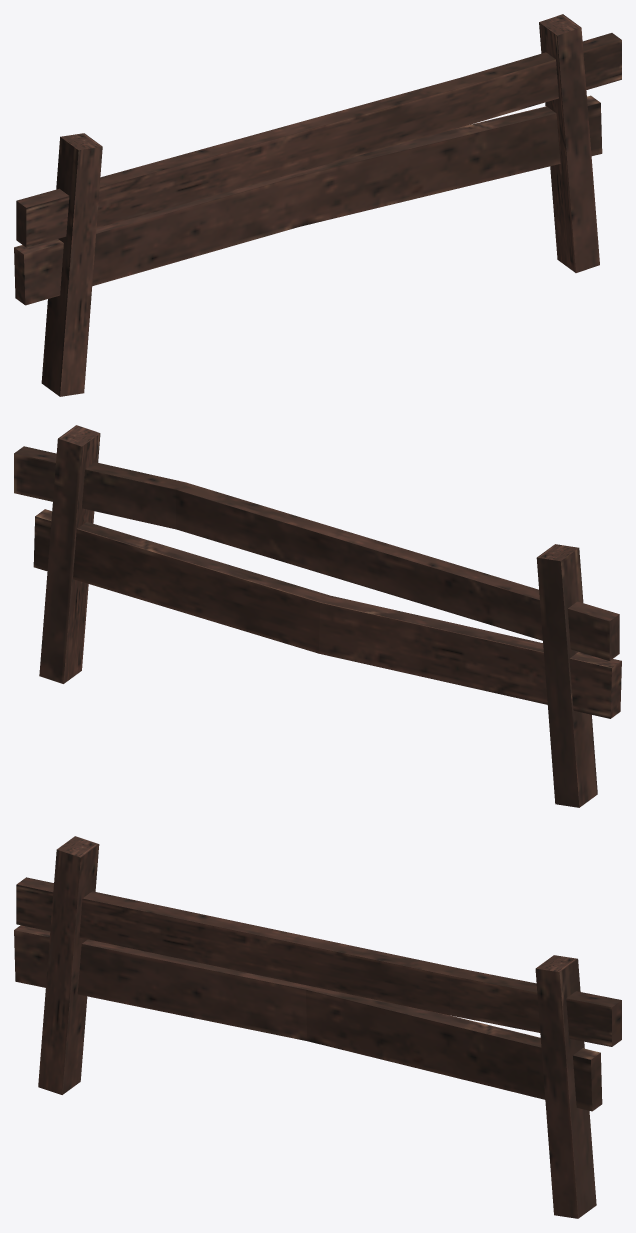
The model's file is kqzd_muzalan_1.FBX.
3 views of the same model, one above another, from view 1: azimuth 30°, elevation 25°; view 2: azimuth 150°, elevation 25°; view 3: azimuth 330°, elevation 25° (orthographic).
Parts seen in each view (by area): view 1: kqzd_muzalan_1; view 2: kqzd_muzalan_1; view 3: kqzd_muzalan_1.
Part boxes in pixels (x1,y1,x2,y2): kqzd_muzalan_1: [14, 14, 621, 396]; kqzd_muzalan_1: [14, 425, 621, 807]; kqzd_muzalan_1: [14, 836, 621, 1218].
Size of the model in its own units: 222 by 16.02 by 86.63.
